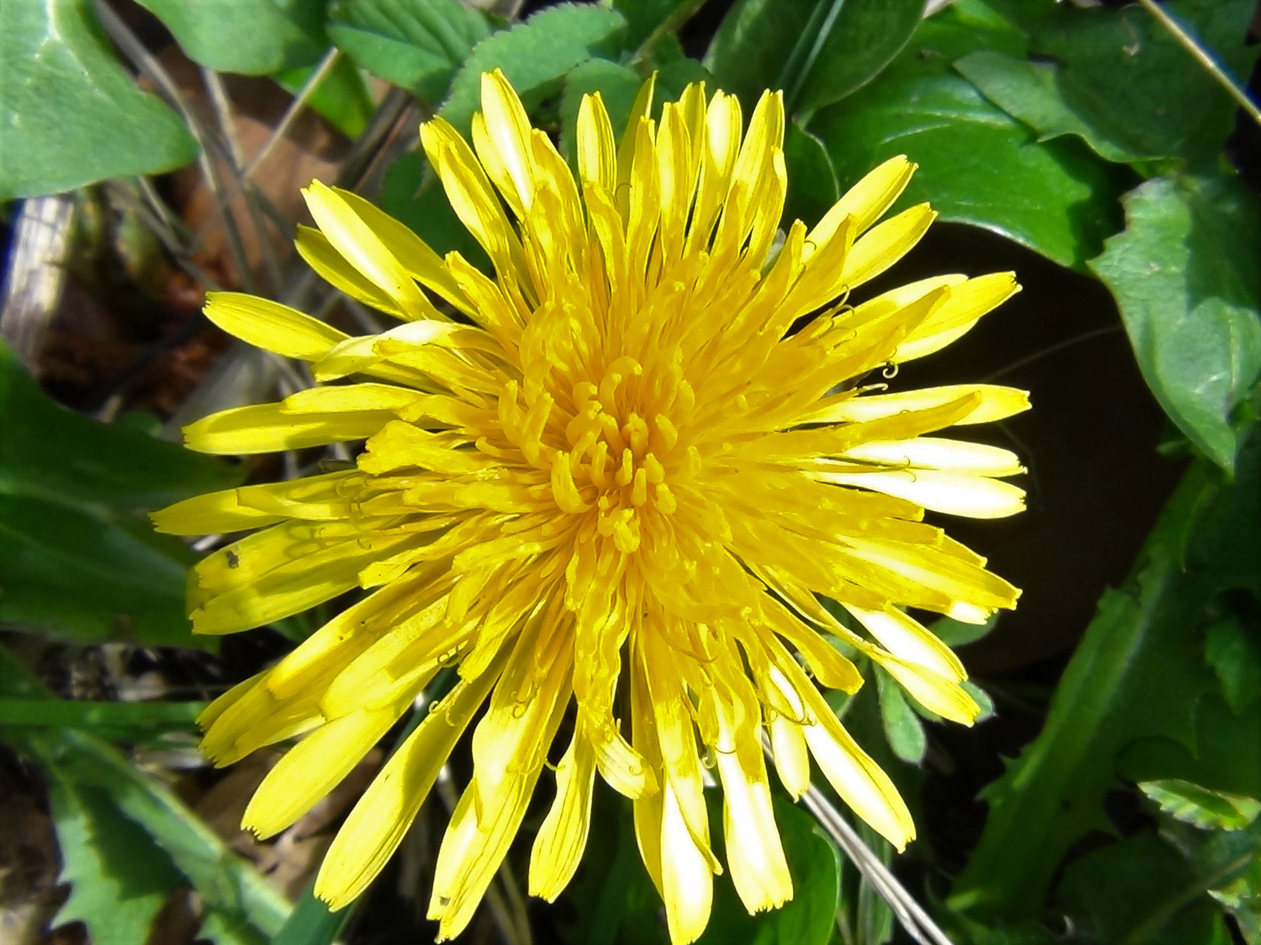begonvil: (172, 45, 1032, 945)
